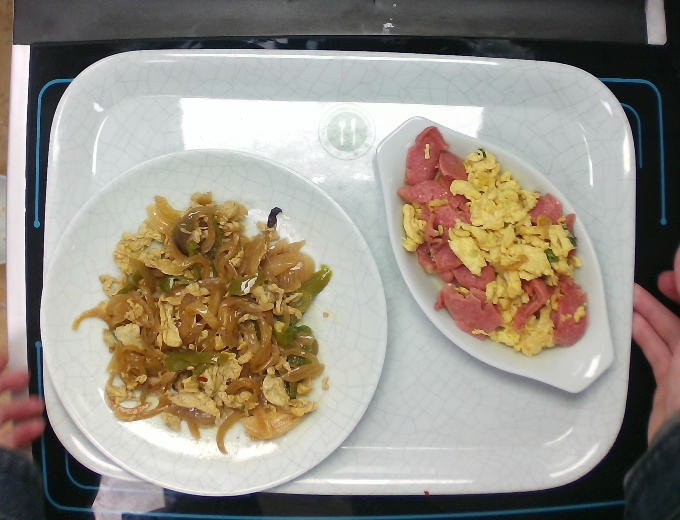JYsf-Da_Yuan_Pan: (34, 147, 388, 498)
JYsf-Yu_Pan: (371, 104, 619, 398)
